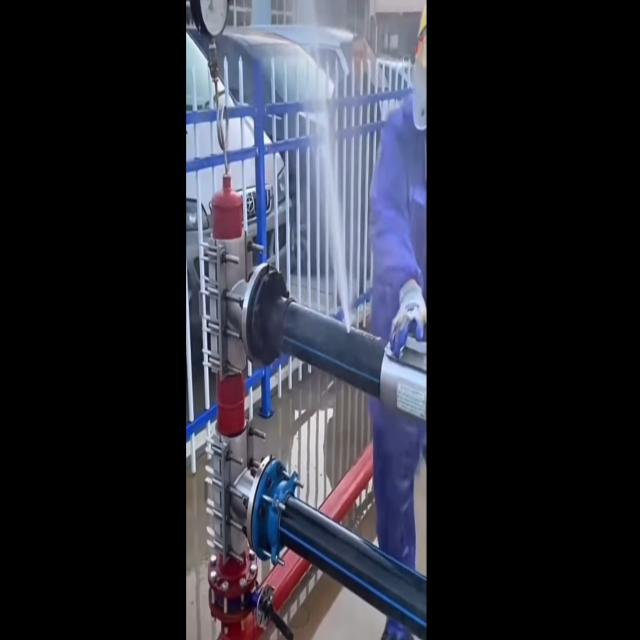leak: (319, 109, 351, 331)
